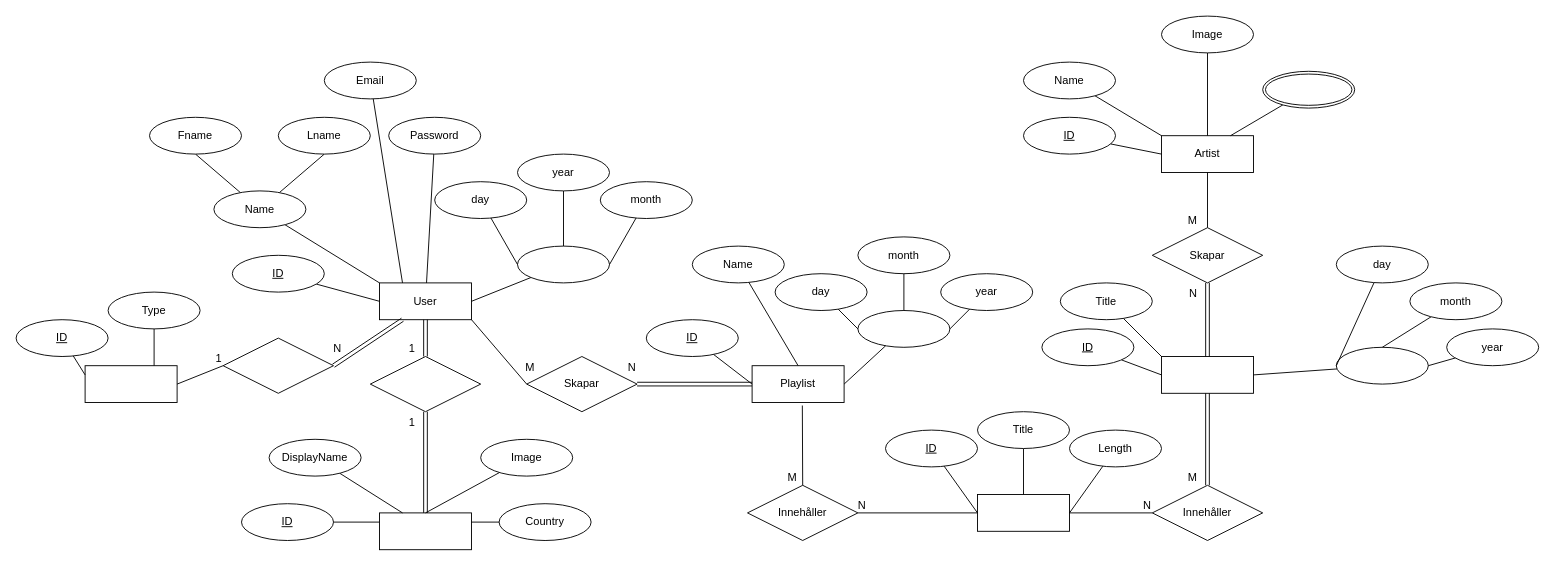
Image size: 1555x566. Some labels were removed from this diagram. Here are the shapes that lost their labels. From the top down, the centre of each, then its label:
(1308,89): Genre
(563,264): Date_of_birth
(903,328): Created_date
(130,383): Subscription
(278,365): Prenumererar på
(425,384): Har
(1207,374): Album
(1381,365): Release_date
(425,531): Profile
(1023,512): Song
